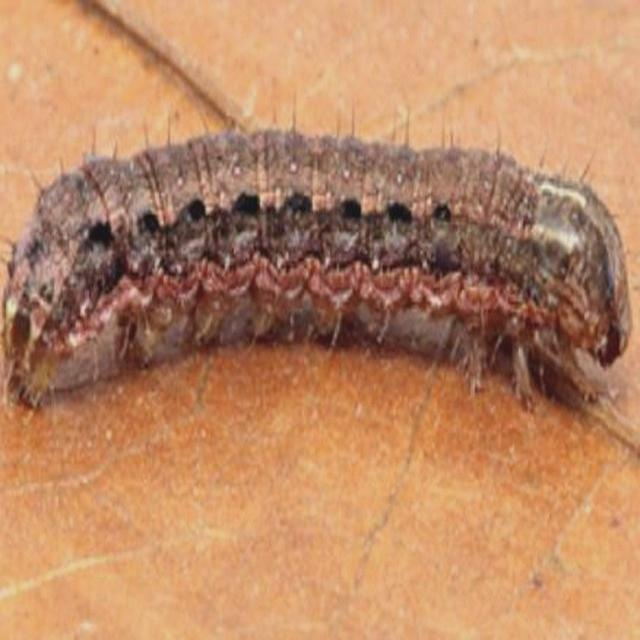gusano_cogollero: (7, 132, 620, 400)
